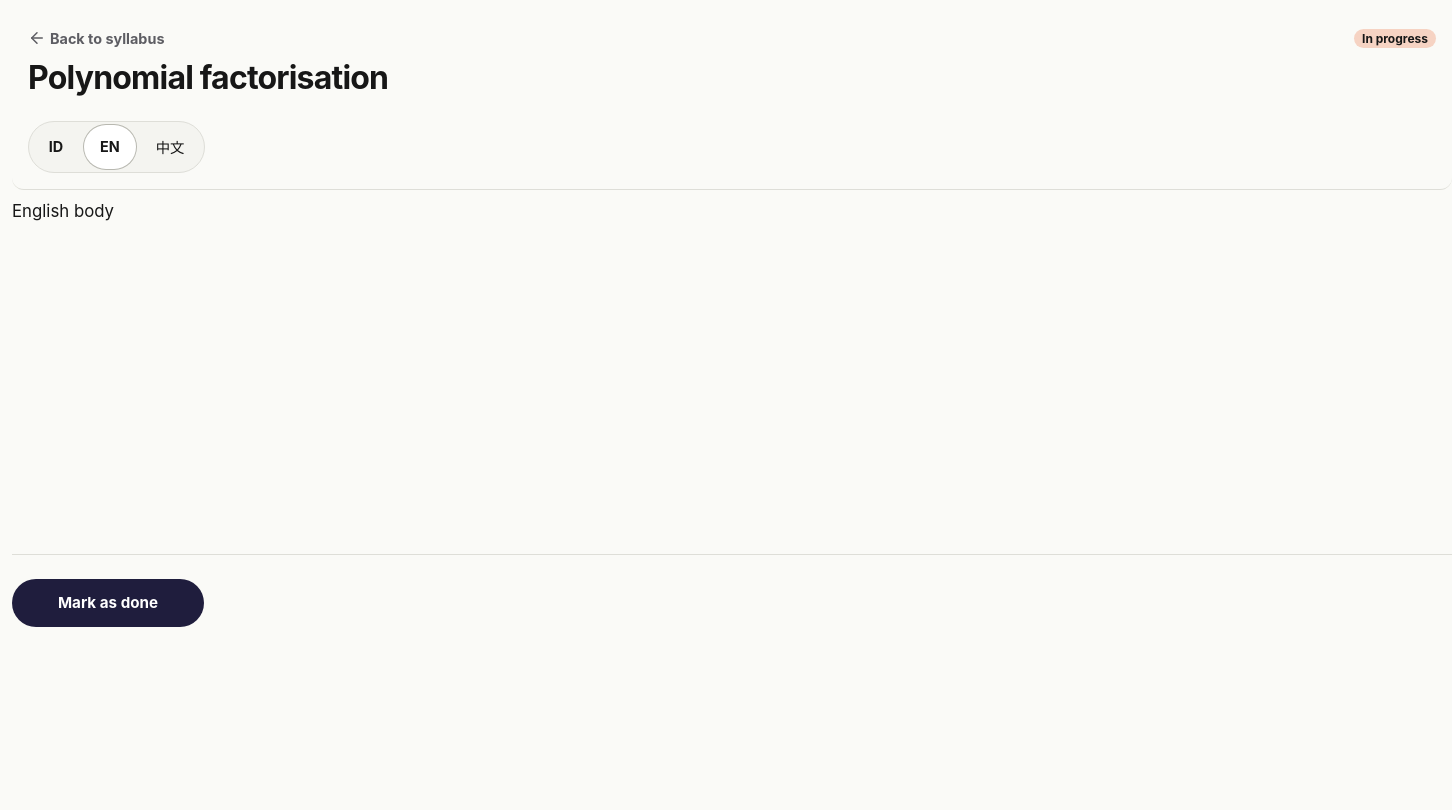
mark content complete uses authoritative response
This screenshot has width=1452, height=810.
Expected: the text "English body" is shown, [12,201,114,221]
Step 1. Click the button "Mark as done" → (108, 603), box [12,579,204,627]
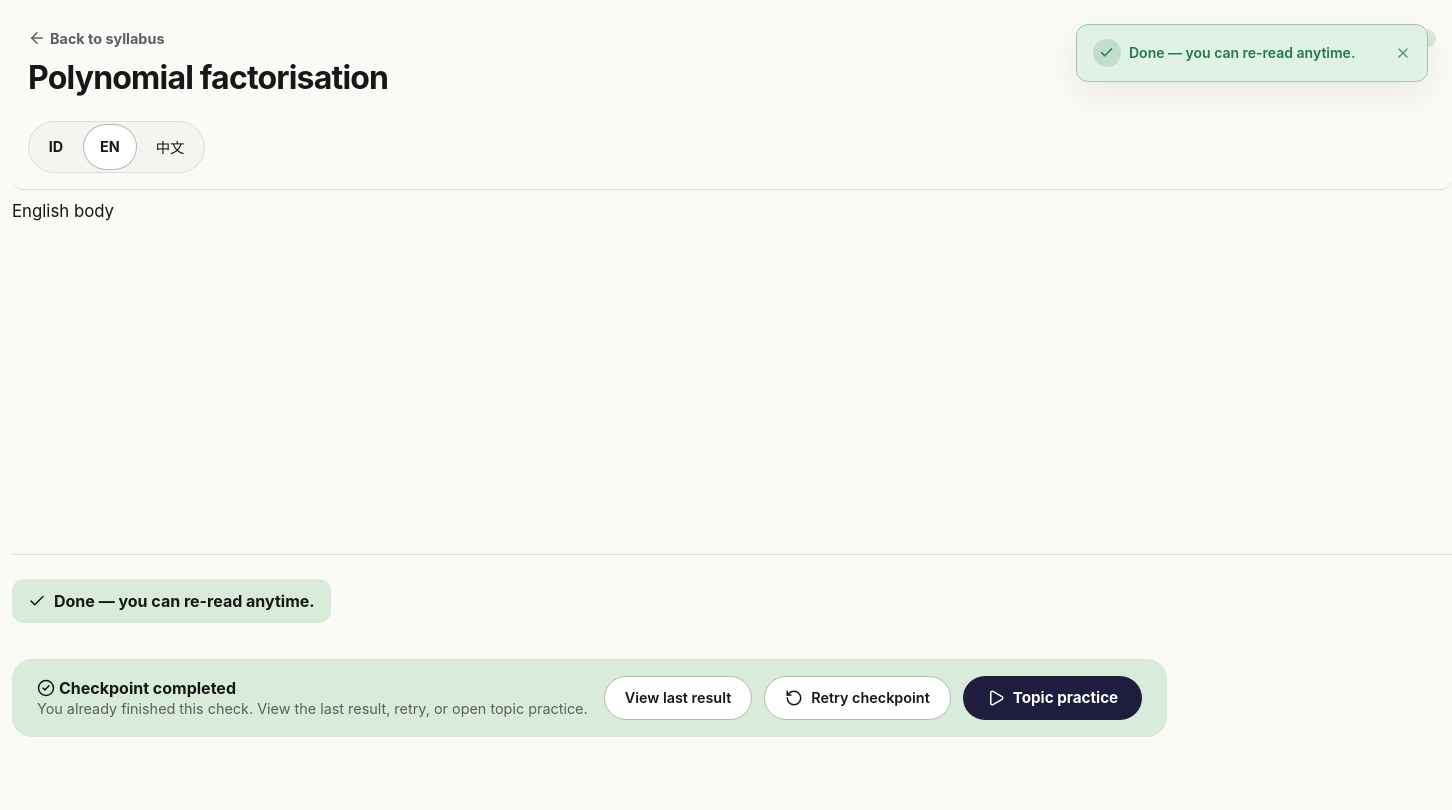
Expected: the 2nd text "Done — you can re-read anytime." is shown, [12,579,331,623]
Expected: the text "Done" is shown, [1389,28,1436,48]
